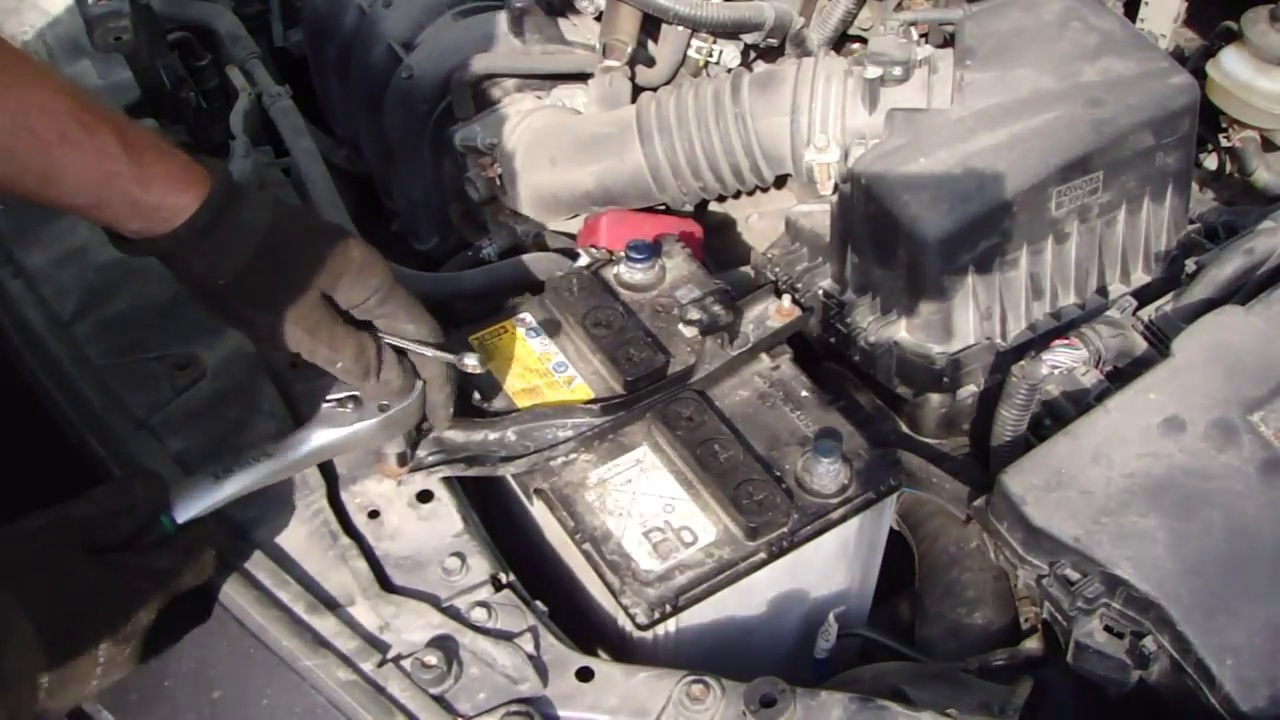battery: (438, 229, 893, 586)
neg_disconnected: (775, 410, 877, 536)
pos_disconnected: (558, 195, 725, 329)
